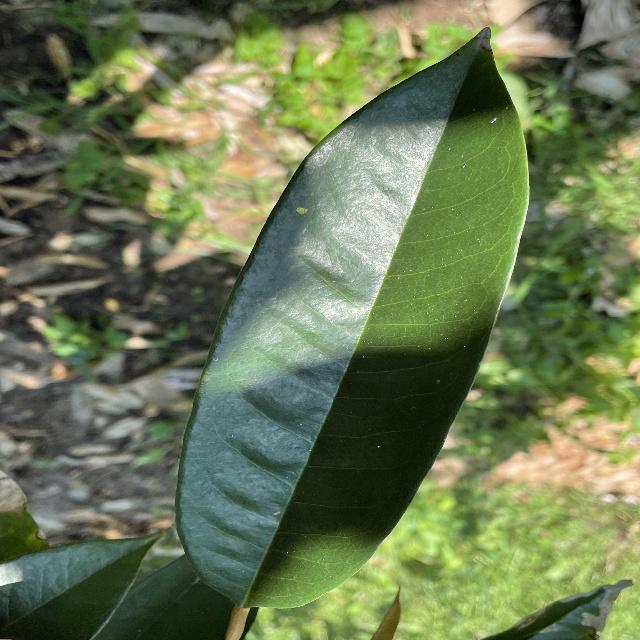No Disease: (169, 15, 537, 619)
